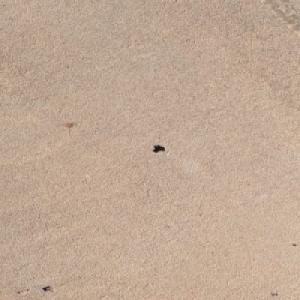BoltWasher: (151, 145, 162, 151)
